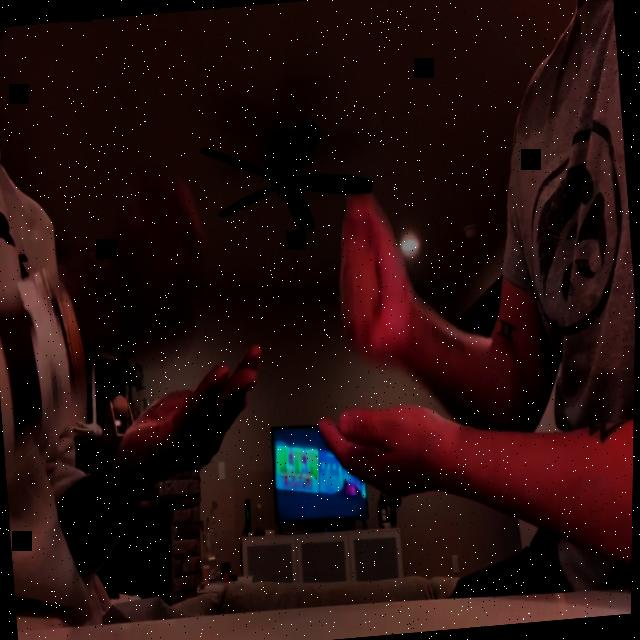Rock: (110, 168, 213, 346), (328, 186, 423, 370)
